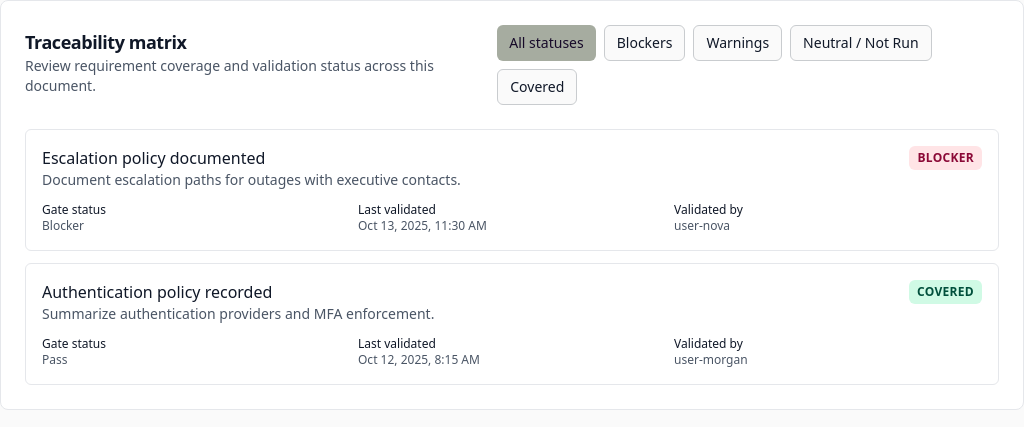
it: TraceabilityMatrix › renders requirements and filters by status
Expected: the heading "Traceability matrix" is shown, [25,30,186,54]
Expected: the heading "Escalation policy documented" is shown, [42,147,265,169]
Click the button "Blockers" at {"x": 645, "y": 43}, box [604,25,686,61]
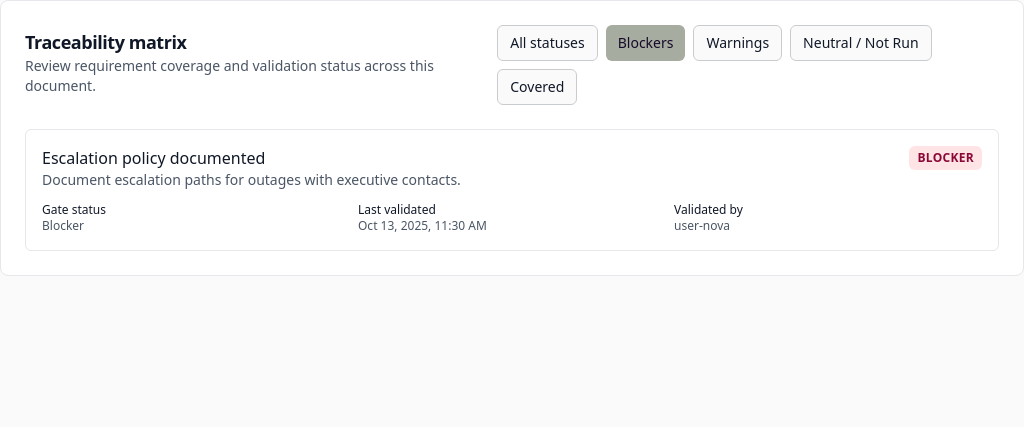
Expected: the heading "Escalation policy documented" is shown, [42,147,265,169]
Expected: the heading "Authentication policy recorded" is gone
Click the button "Covered" at {"x": 537, "y": 87}, box [497,69,577,105]
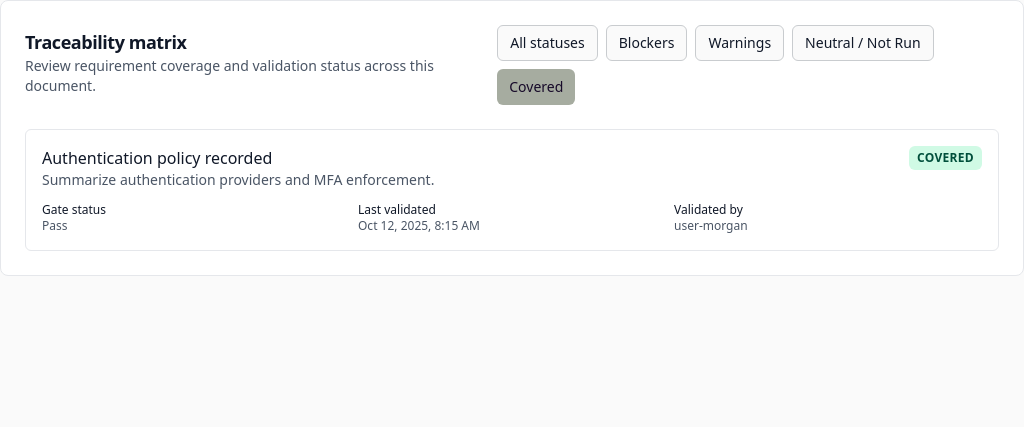
Expected: the heading "Escalation policy documented" is gone
Expected: the heading "Authentication policy recorded" is shown, [42,147,272,169]
